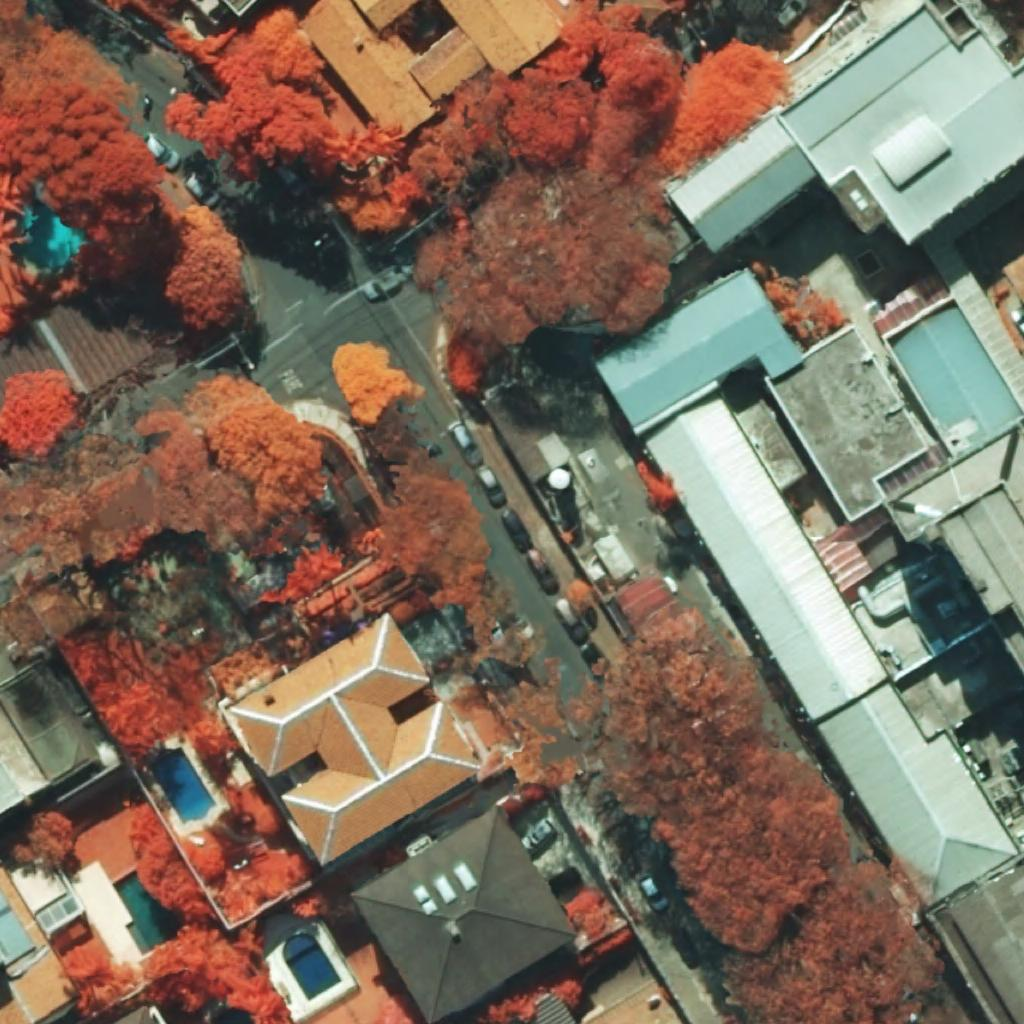pool: (113, 869, 185, 956), (150, 747, 217, 824), (19, 196, 88, 269), (282, 933, 342, 1001), (211, 1009, 252, 1024)
